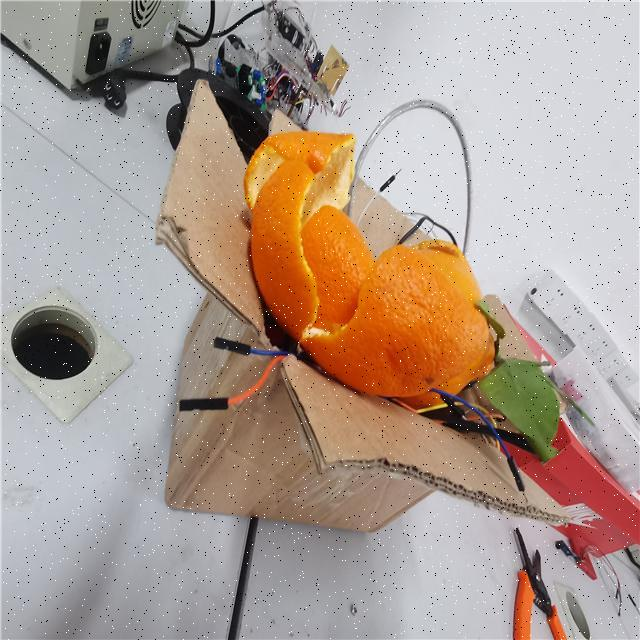orange-peel: (242, 128, 497, 405)
